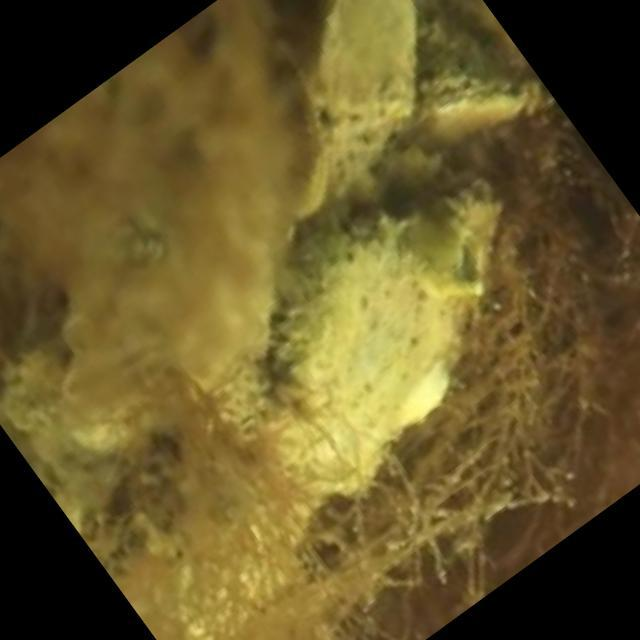Oyster- Indeterminate: (213, 126, 516, 503)
Oyster-Closed: (399, 48, 542, 159)
